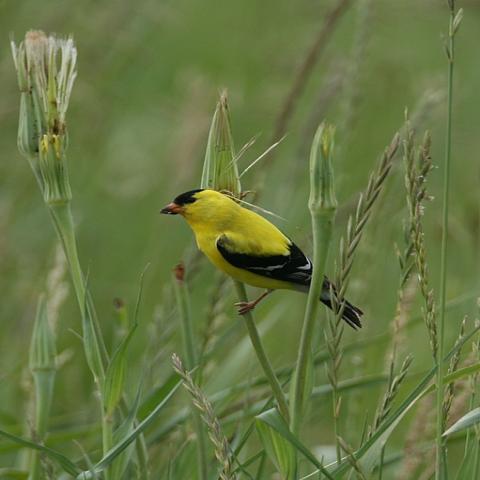bird: (157, 186, 365, 332)
